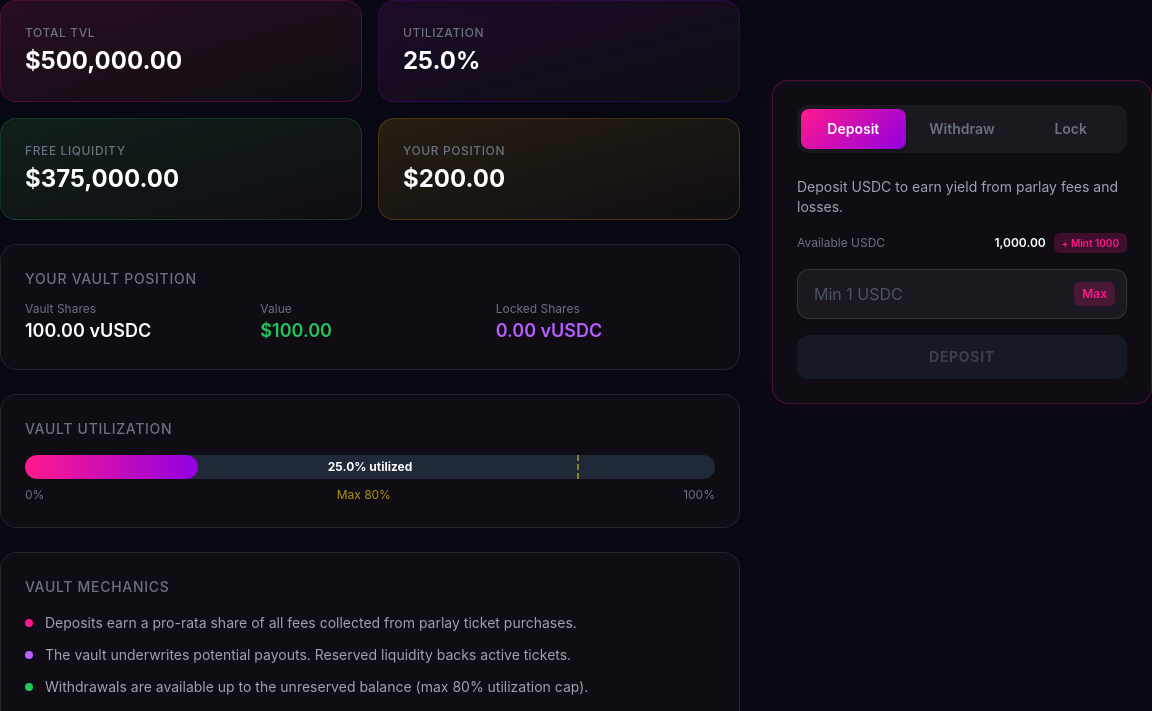
Test: VaultDashboard › withdraw minimum guard › shows 'Amount Too Small' on button for dust withdraw
The image size is (1152, 711).
Click the button "Withdraw": [962, 129] box 910,109 -> 1014,149
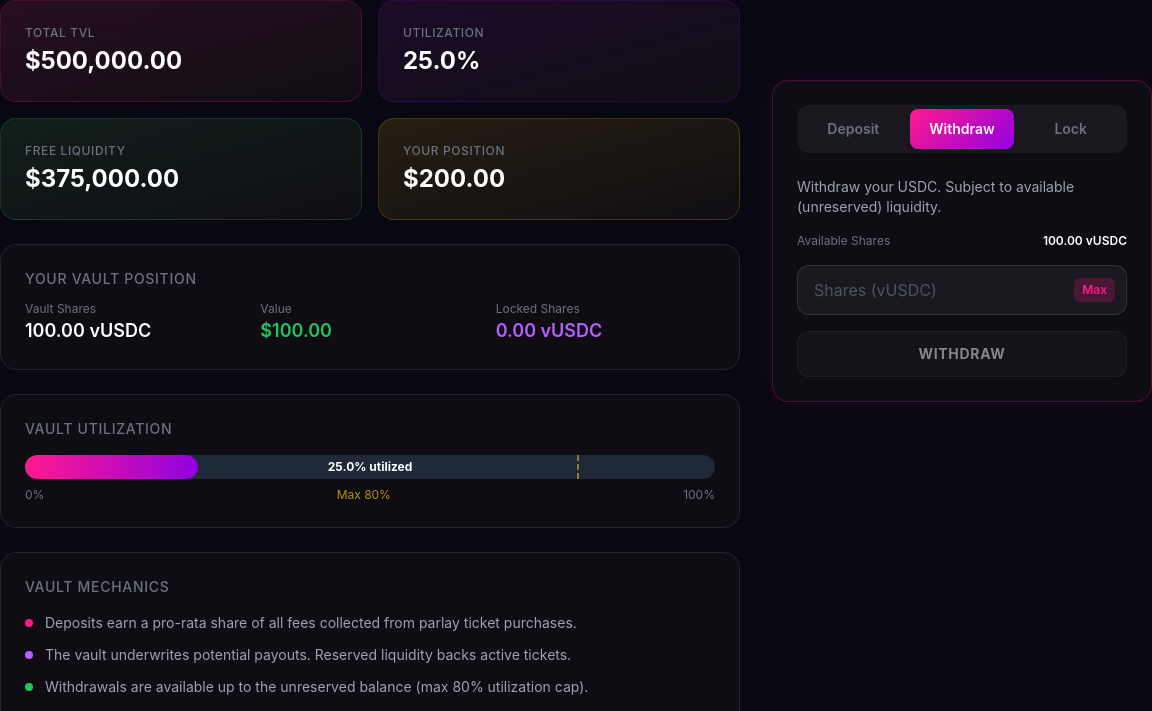
In the field with placeholder "Shares (vUSDC)": [962, 290] box 797,265 -> 1127,315, type "0.0000001"
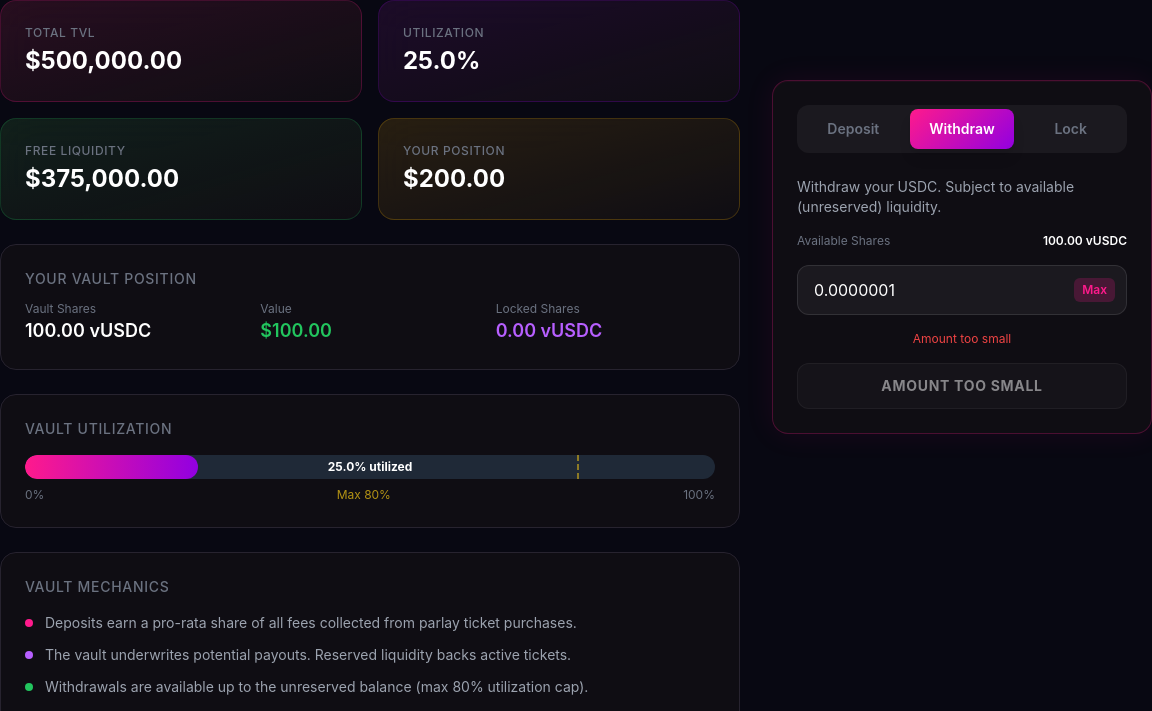
Result: the button "Amount Too Small" is shown at 797,363 -> 1127,409
